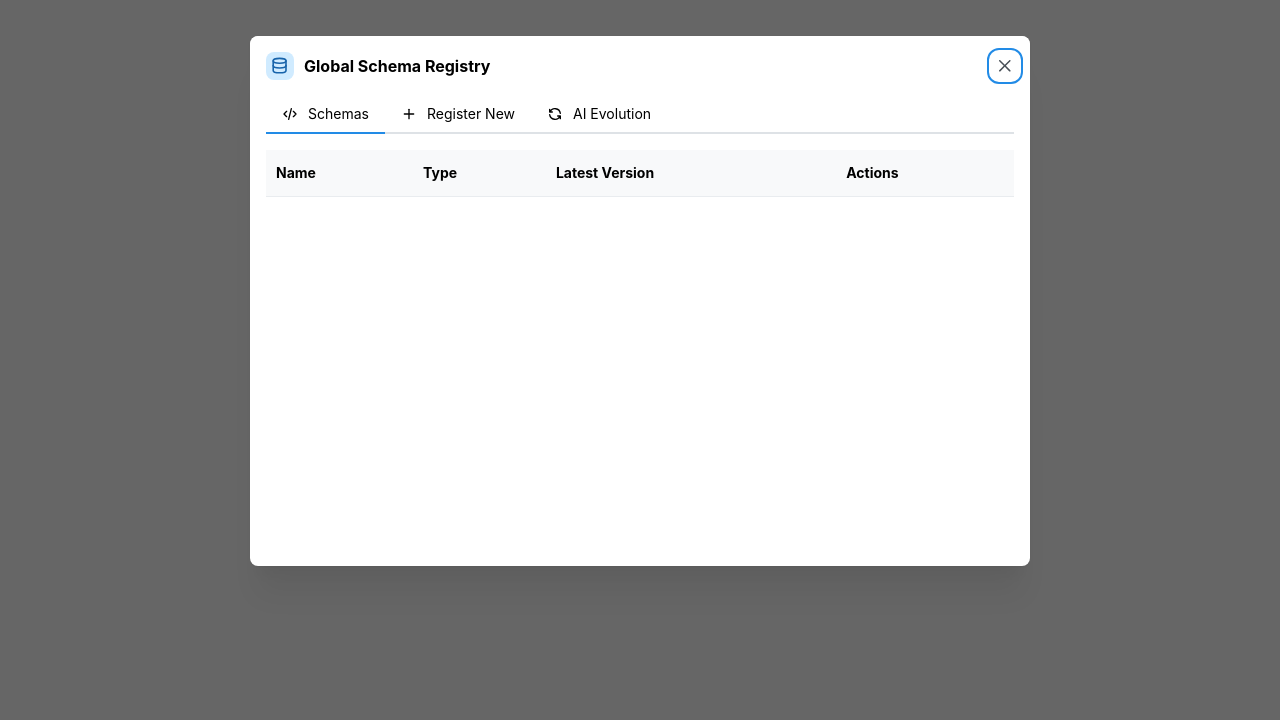
Test: Schema change analysis › asks about the open workflow and lists what is downstream of it
Click the tab "AI Evolution" at point(599, 115), box left=531, top=96, right=667, bottom=134
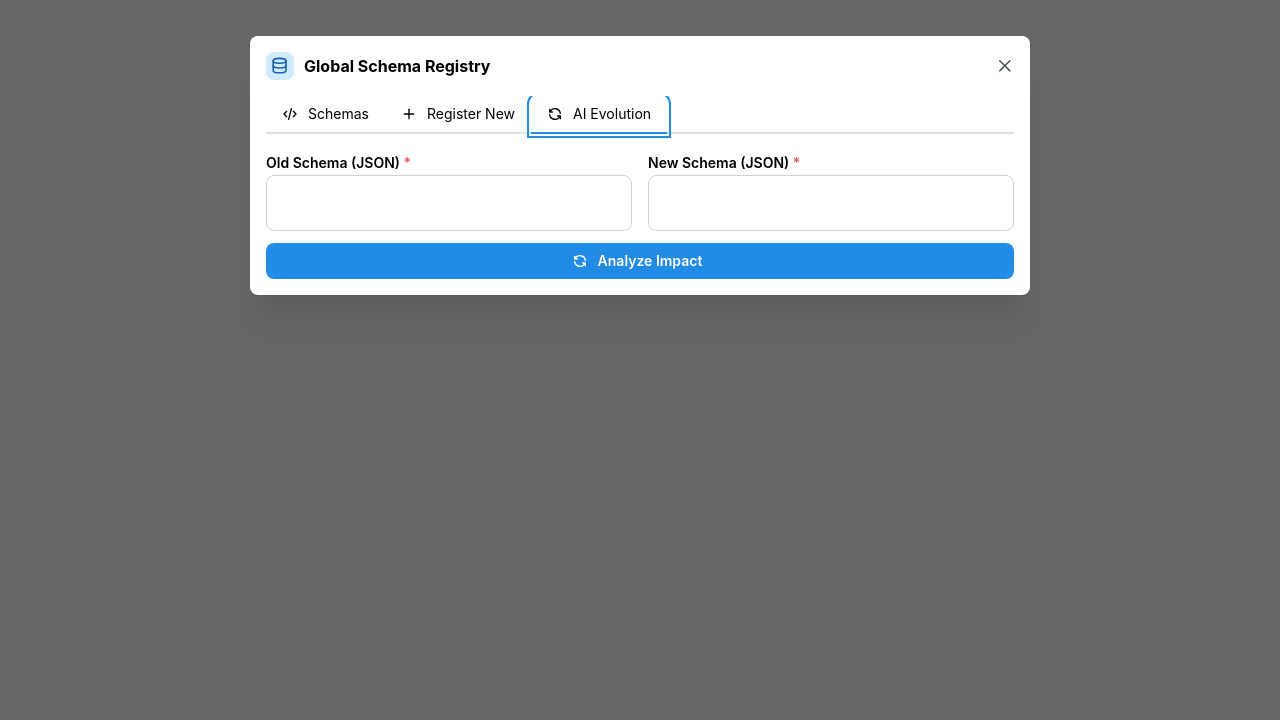
Click the text box labelled "Old Schema (JSON) *" at point(449, 203), box left=266, top=175, right=632, bottom=231
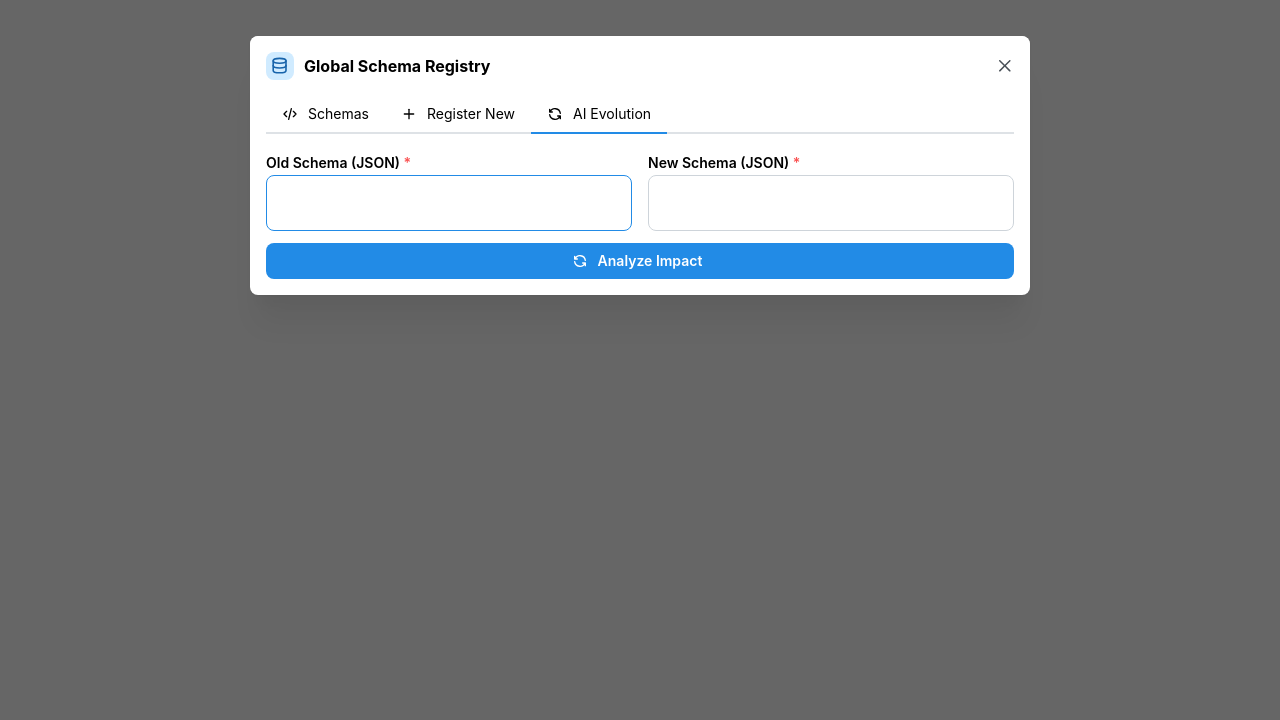
Type keys "{\"id\":1,\"total\":2}"
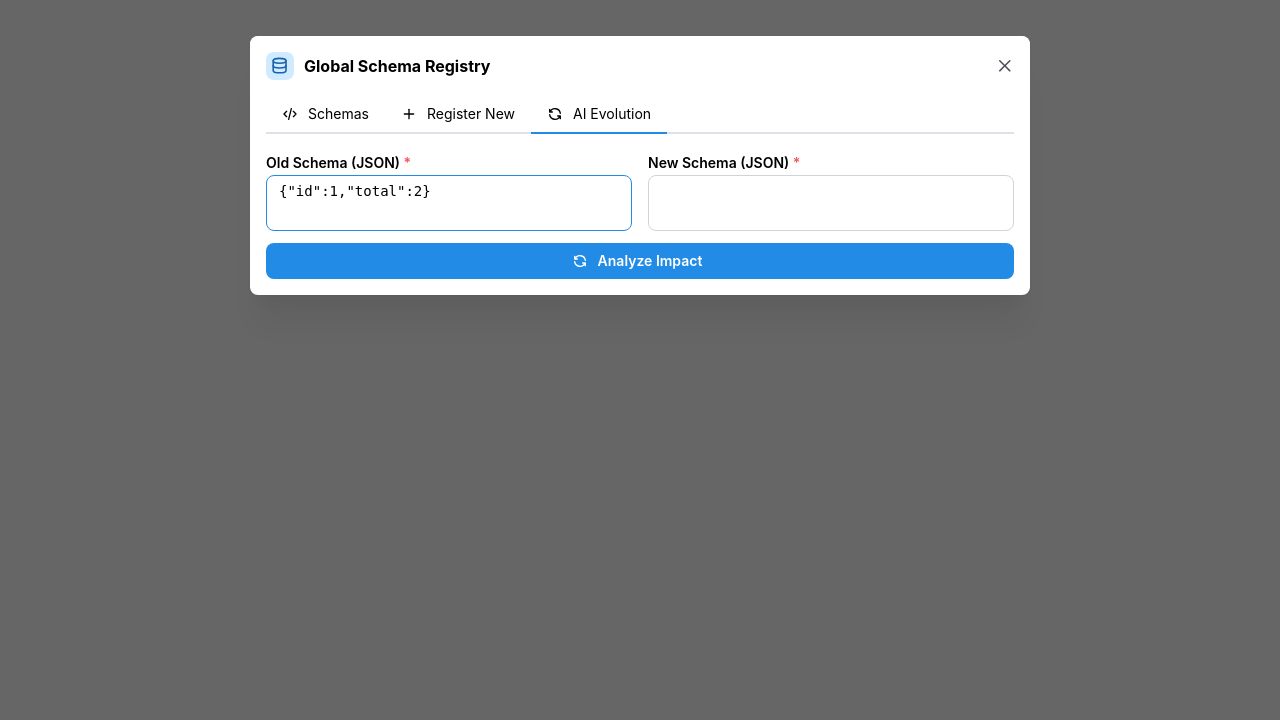
Click the text box labelled "New Schema (JSON) *" at point(831, 203), box left=648, top=175, right=1014, bottom=231
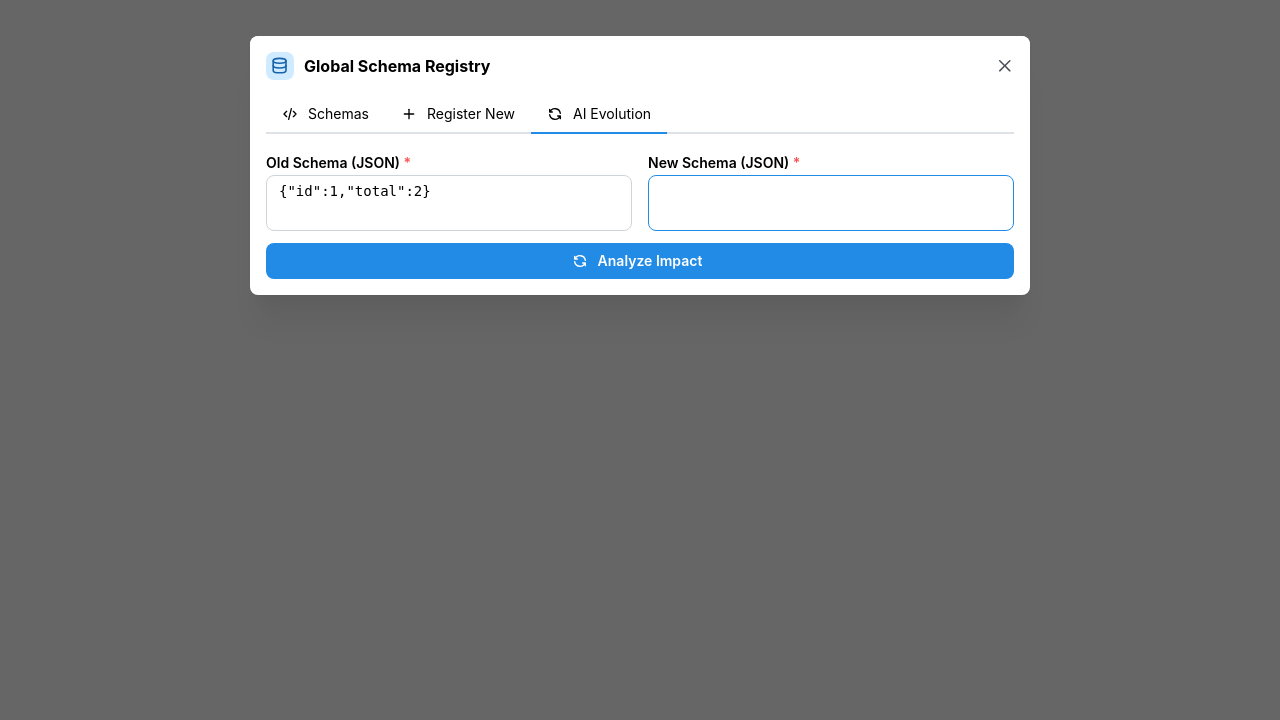
Type keys "{\"id\":1}"
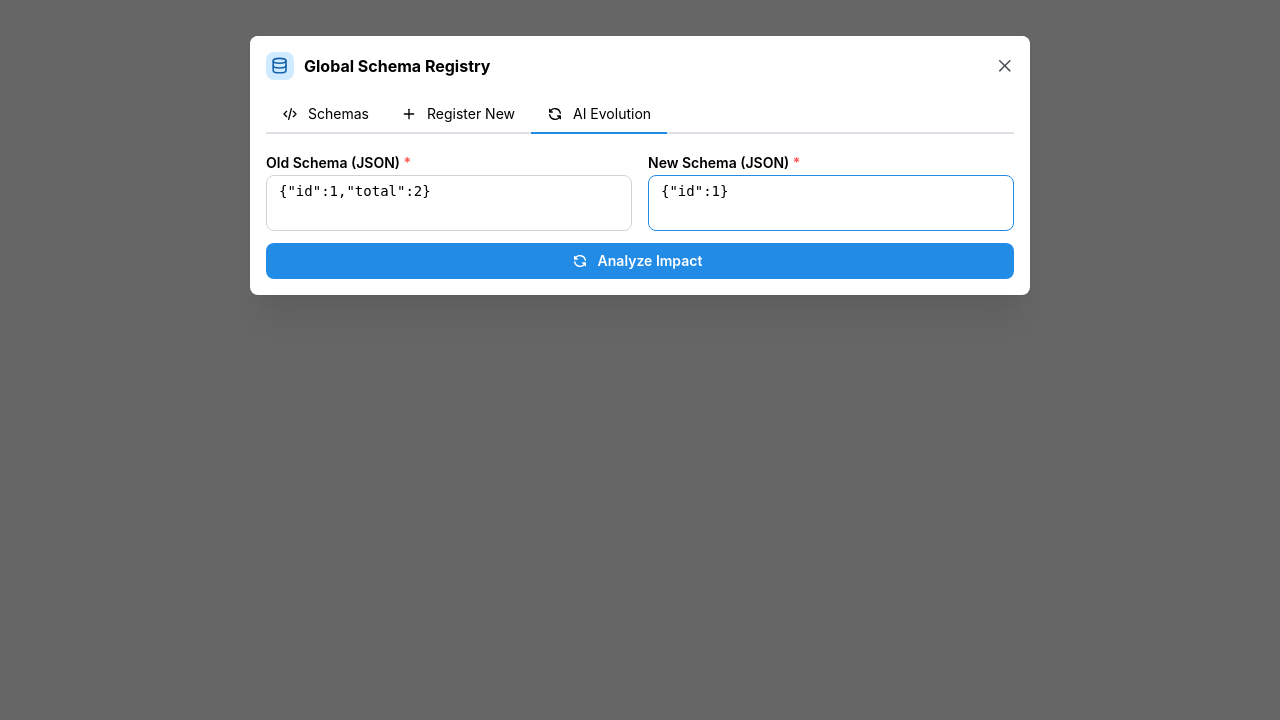
Click the button "Analyze Impact" at point(640, 261), box left=266, top=243, right=1014, bottom=279
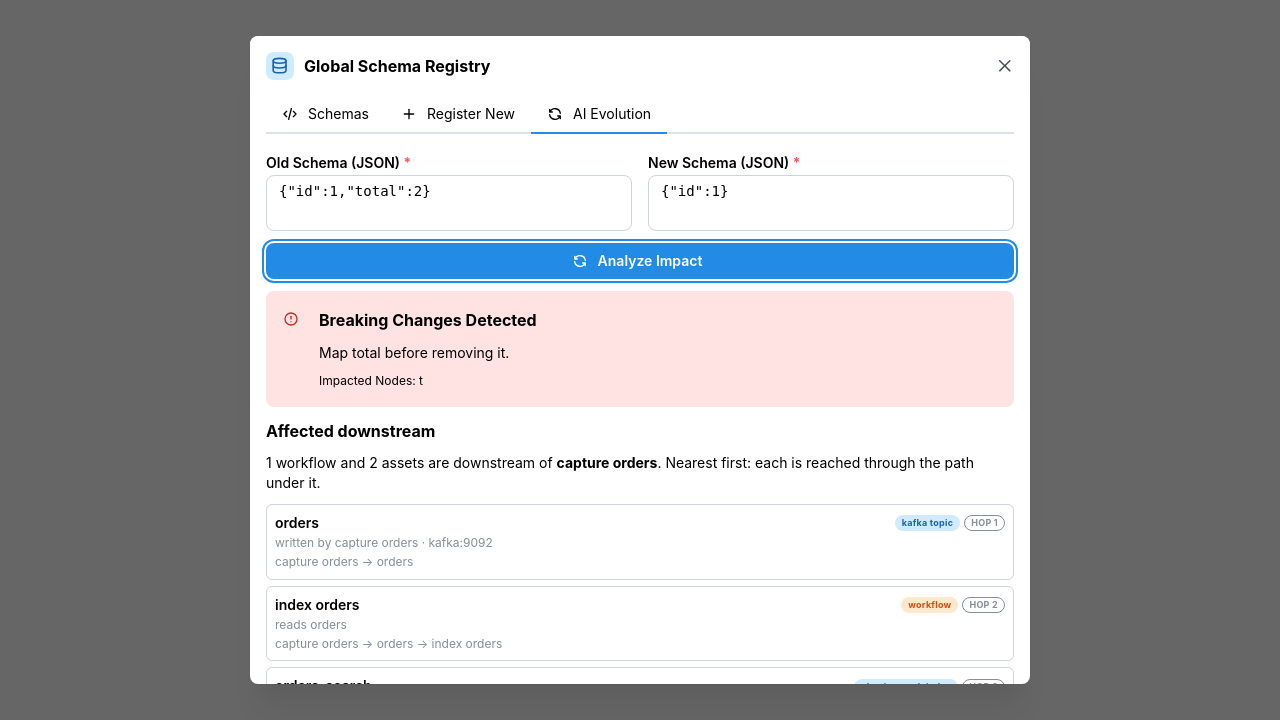
Now the text "Breaking Changes Detected" is shown, box left=319, top=310, right=537, bottom=330
Now the heading "Affected downstream" is shown, box left=266, top=421, right=435, bottom=441
